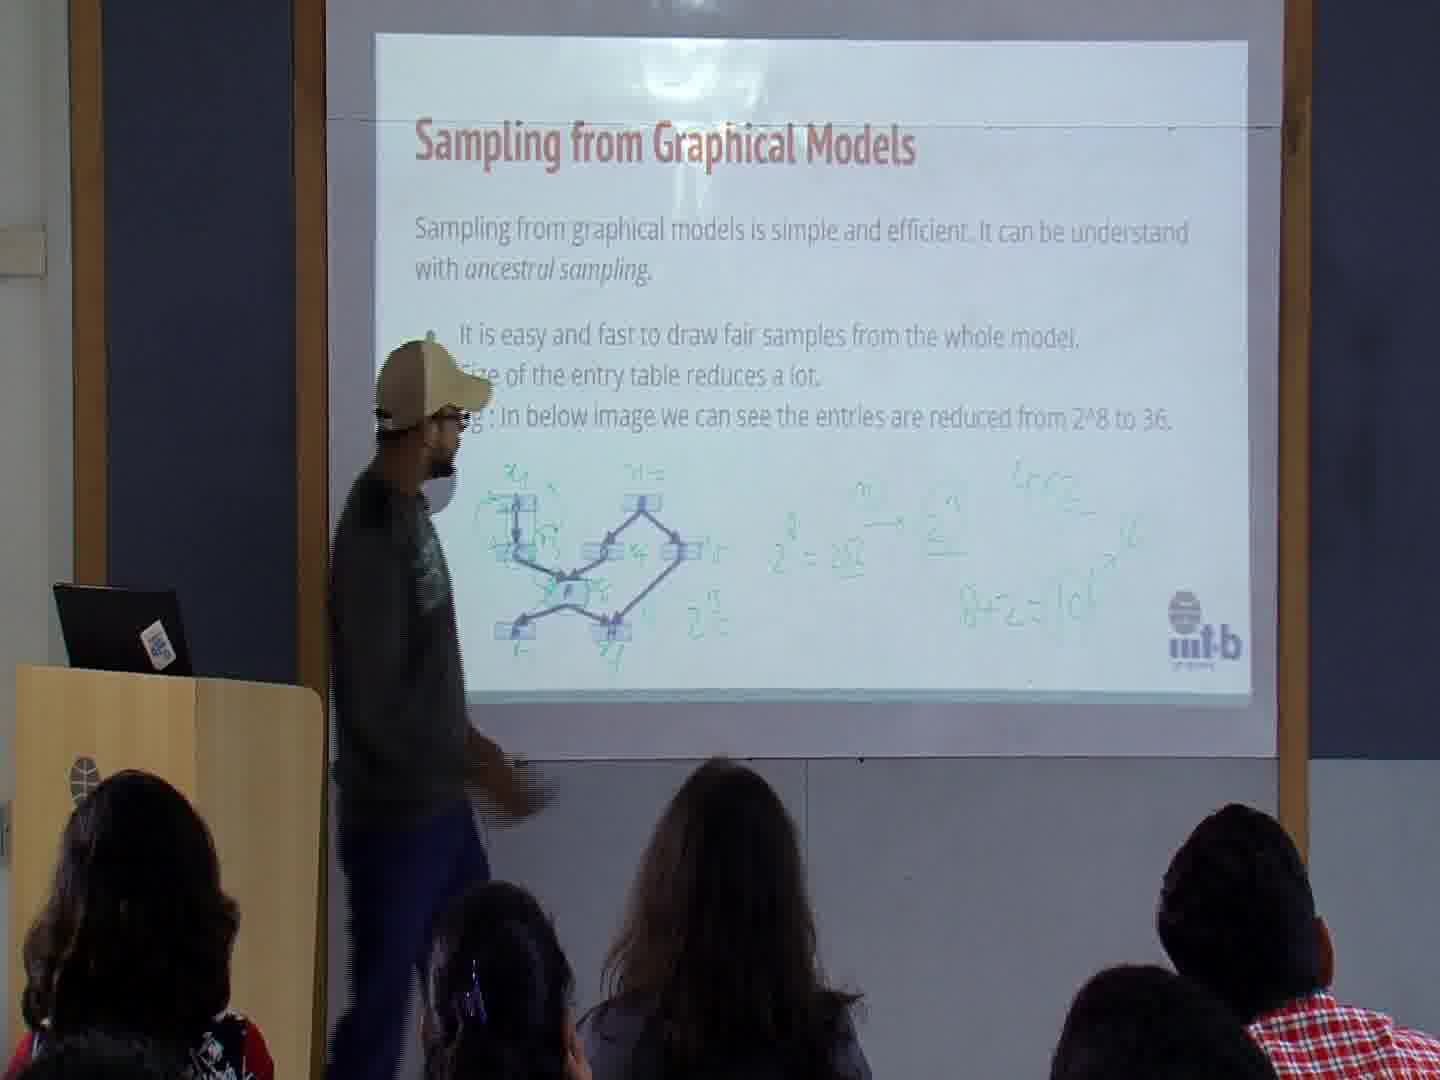fig: (488, 488, 713, 650)
